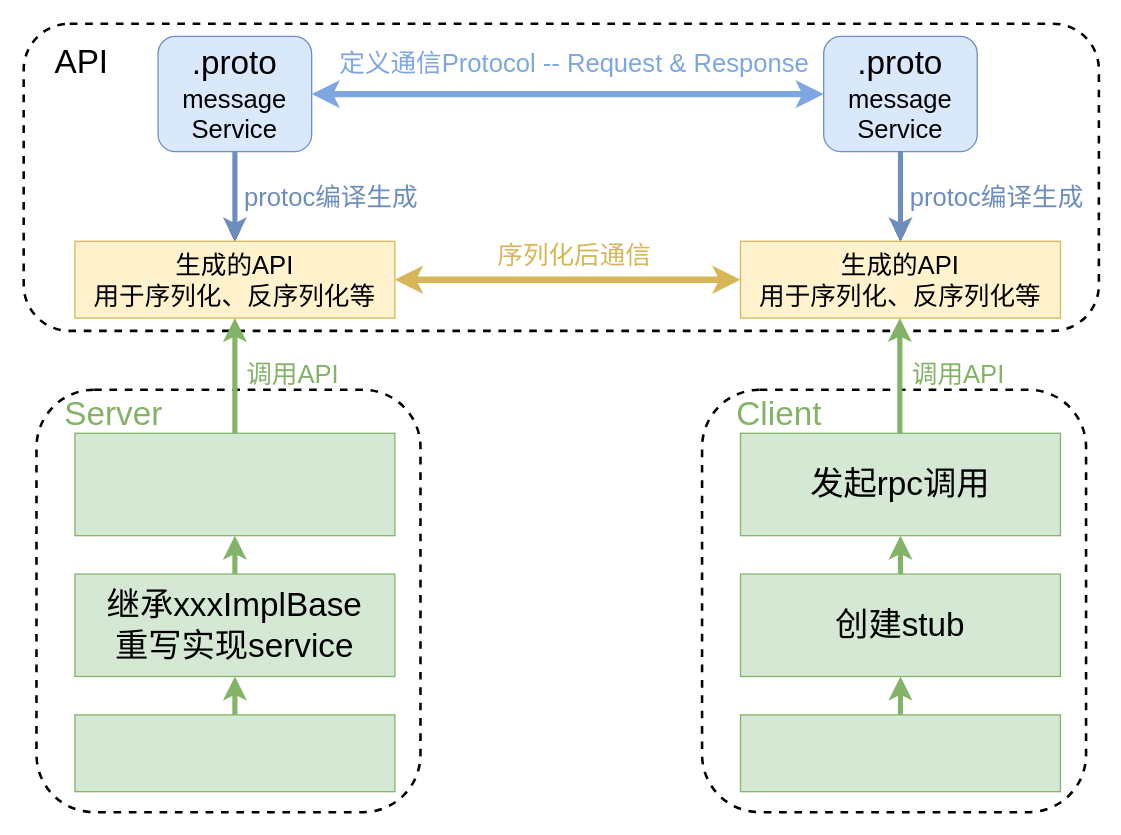
This 1121x835 diagram has some shape labels left out. Here are the shapes that lost their labels. From the top down, the centre of each, then its label:
pixel 234 484: addService 发布服务
pixel 234 753: Server业务代码
pixel 899 753: Client业务代码
